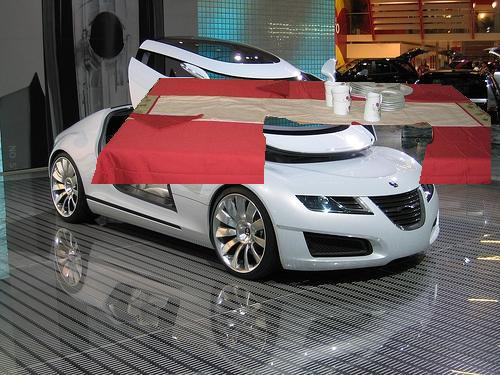tampered: (92, 79, 491, 184)
